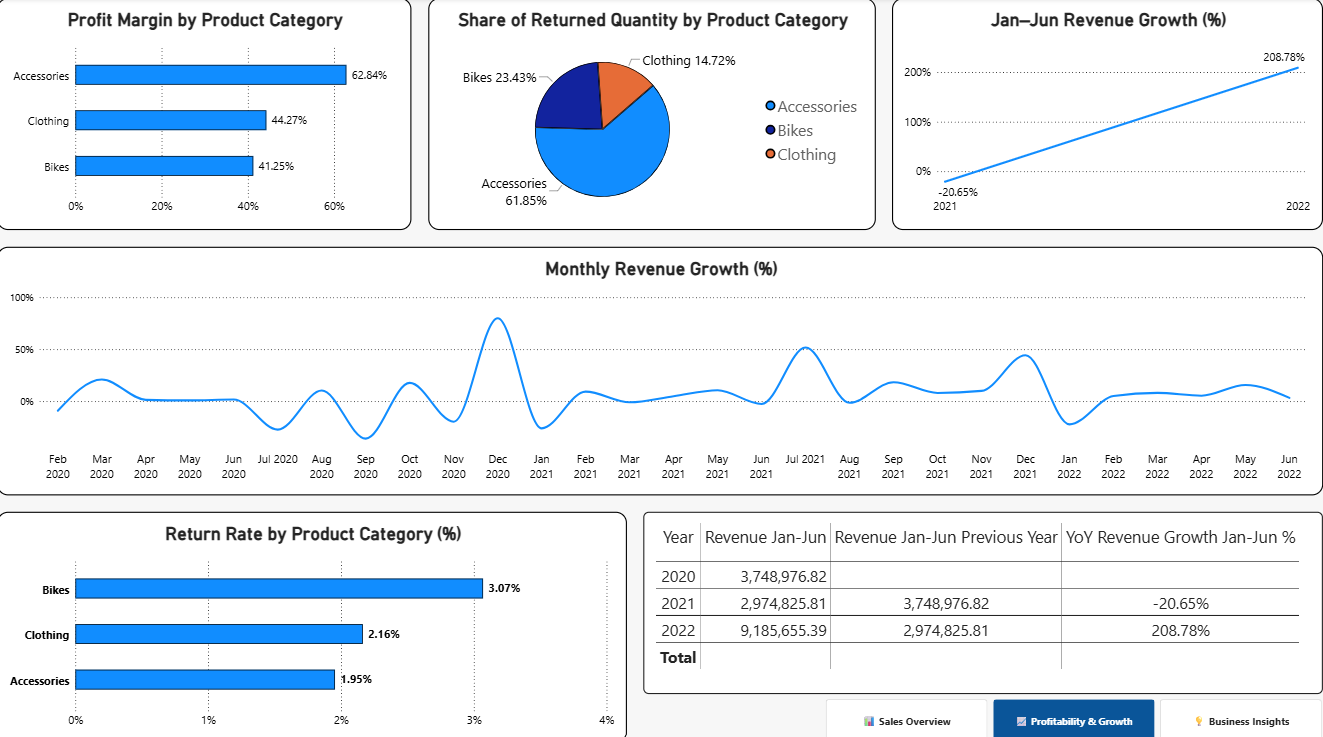

What the dashboard file says about the page in this screenshot:
{"tool":"powerbi","page":{"name":"📈 Profitability & Growth","canvas":[1920,1080],"ordinal":1},"visuals":[{"type":"clusteredBarChart","title":"Profit Margin by Product Category","fields":{"Category":["Dim_ProductCategory.CategoryName"],"Y":["Fact_Sales.Profit Margin %"]},"box":[0,0,600,336],"z":0},{"type":"pieChart","title":"Share of Returned Quantity by Product Category","fields":{"Category":["Dim_ProductCategory.CategoryName"],"Y":["Fact_Sales.Total Returns"]},"box":[624,0,648,336],"z":1000},{"type":"lineChart","title":"Jan–Jun Revenue Growth (%)","fields":{"Category":["Dim_Calendar.Date.Variation.Date Hierarchy.Year"],"Y":["Dim_Calendar.YoY Revenue Growth %"]},"box":[1296,0,624,336],"z":2000},{"type":"lineChart","title":"Monthly Revenue Growth (%)","fields":{"Category":["Dim_Calendar.Month Year"],"Y":["Dim_Calendar.MoM Revenue Growth %"]},"box":[0,360,1920,360],"z":3000},{"type":"tableEx","fields":{"Values":["Dim_Calendar.Date.Variation.Date Hierarchy.Year","Dim_Calendar.Revenue Jan-Jun","Dim_Calendar.Revenue Jan-Jun Previous Year","Dim_Calendar.YoY Revenue Growth %"]},"box":[936,744,984,264],"z":4000},{"type":"clusteredBarChart","title":"Return Rate by Product Category (%)","fields":{"Y":["Fact_Returns.Category Return Rate %"],"Category":["Dim_ProductCategory.CategoryName"]},"box":[0,744,912,336],"z":5000},{"type":"pageNavigator","box":[1200,1016,720,64],"z":6000}]}

Visuals, with their boxes in screenshot pixels (x1, y1, x2, y2), scaled from the page's 1920x1080 canvas onto the 1323x737 screenshot:
"Profit Margin by Product Category" clusteredBarChart: [0,0,413,229]
"Share of Returned Quantity by Product Category" pieChart: [430,0,876,229]
"Jan–Jun Revenue Growth (%)" lineChart: [893,0,1322,229]
"Monthly Revenue Growth (%)" lineChart: [0,246,1322,491]
tableEx - Dim_Calendar.Date.Variation.Date Hierarchy.Year x Dim_Calendar.Revenue Jan-Jun: [645,508,1322,688]
"Return Rate by Product Category (%)" clusteredBarChart: [0,508,628,736]
pageNavigator: [827,693,1322,736]
